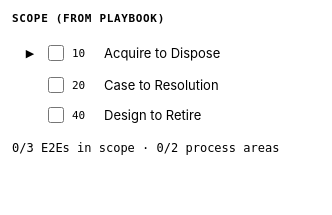
Test: ScopeTree › collapses areas on second click
Click the button with test id "scope-expand-10".
click(30, 53)  # box [20,43,40,63]
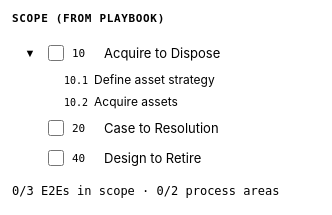
Check: the element with test id "scope-children-10" is shown, box [64,72,215,109]
Click the button with test id "scope-expand-10".
click(30, 53)  # box [20,43,40,63]
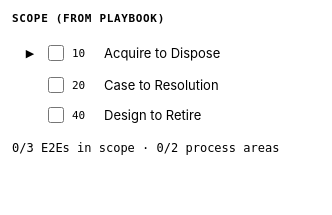
Check: the element with test id "scope-children-10" is gone
